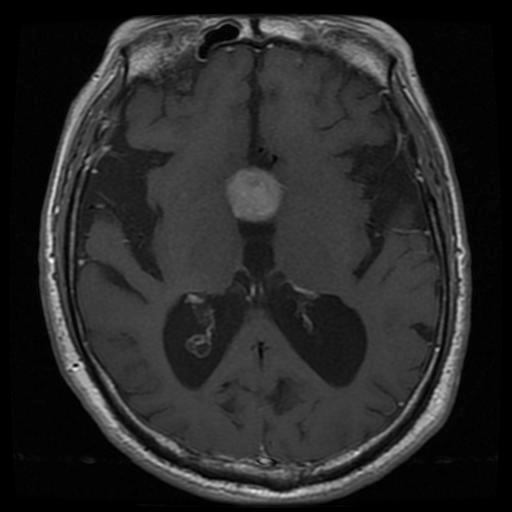Tumour-Pituitary: (226, 168, 286, 227)
